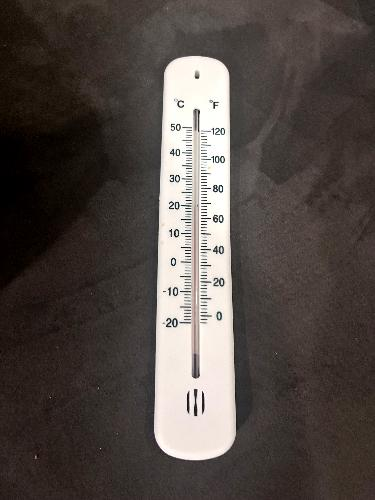thermo: (151, 54, 248, 452)
